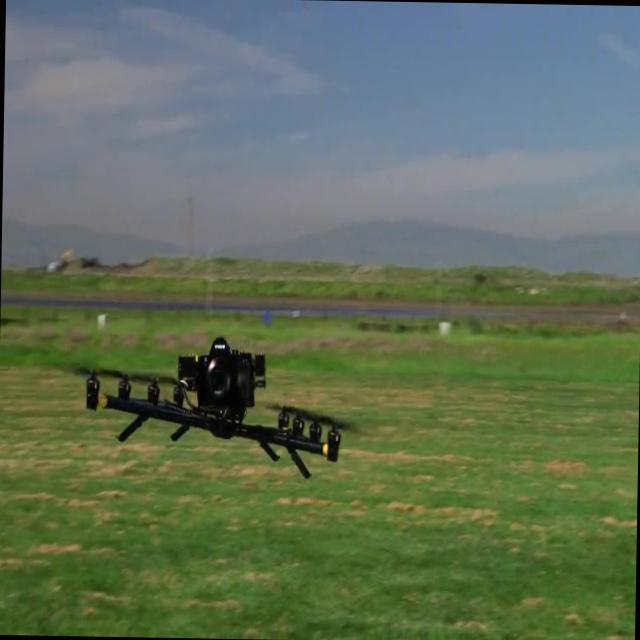drone: (80, 330, 344, 481)
